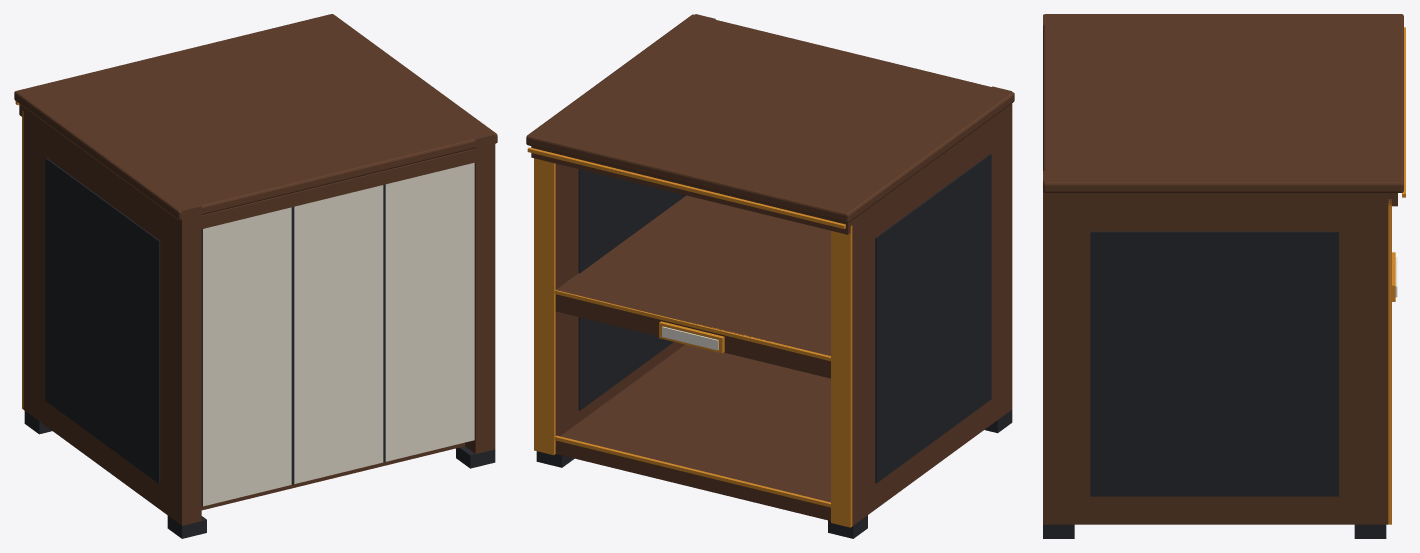
The model's file is archive_shelf.obj.
3 views of the same model, side by side, from view 1: azimuth 30°, elevation 25°; view 2: azimuth 150°, elevation 25°; view 3: azimuth 270°, elevation 25° (orthographic). The views are drawn at different scales.
Parts seen in each view (by area): view 1: archive_shelf; view 2: archive_shelf; view 3: archive_shelf.
Part boxes in pixels (box(x1,y1,x2,y2)): archive_shelf: box(14, 14, 497, 538); archive_shelf: box(526, 14, 1014, 538); archive_shelf: box(1043, 14, 1405, 538).
Bounding box in the file's own units: 1.02 × 1 × 0.92.
